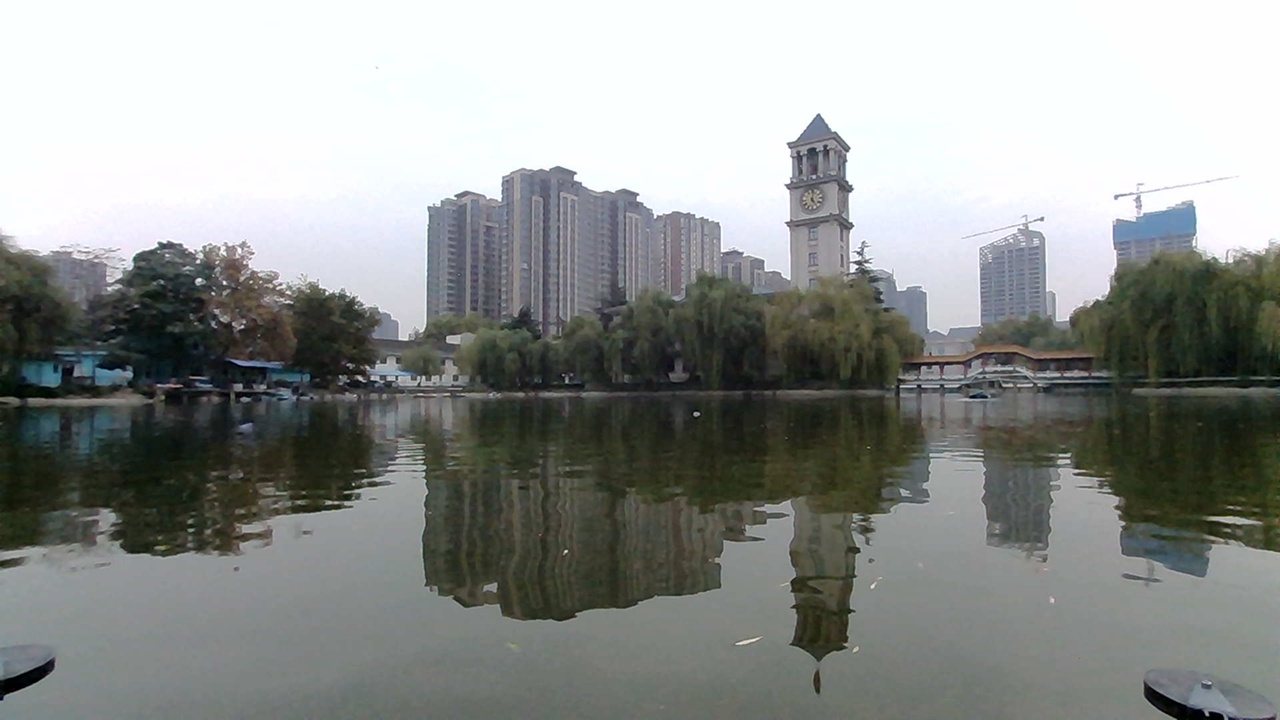bottle: (224, 407, 272, 441), (680, 401, 712, 428)
